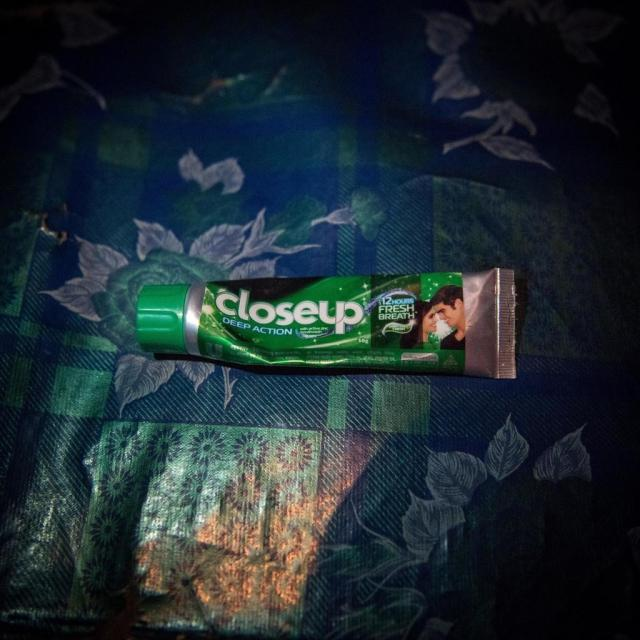Toothpaste: (132, 261, 518, 384)
